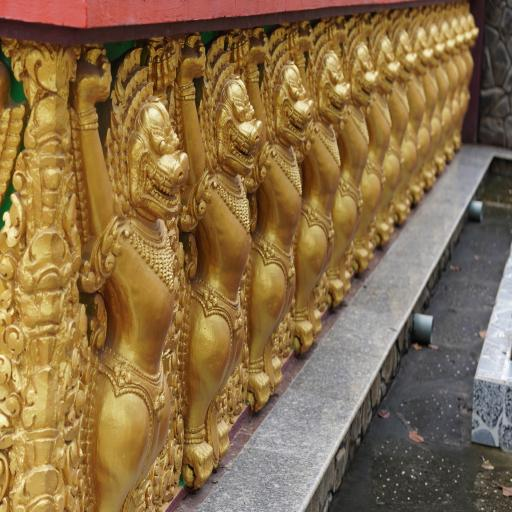la: (0, 38, 101, 512)
than: (69, 38, 197, 512), (174, 32, 265, 479), (238, 11, 316, 418), (295, 8, 344, 372), (342, 12, 375, 344), (368, 16, 398, 316), (403, 3, 430, 277), (386, 4, 412, 276), (435, 5, 454, 268), (423, 2, 442, 260), (458, 4, 482, 200), (445, 2, 458, 248), (453, 0, 466, 212)
